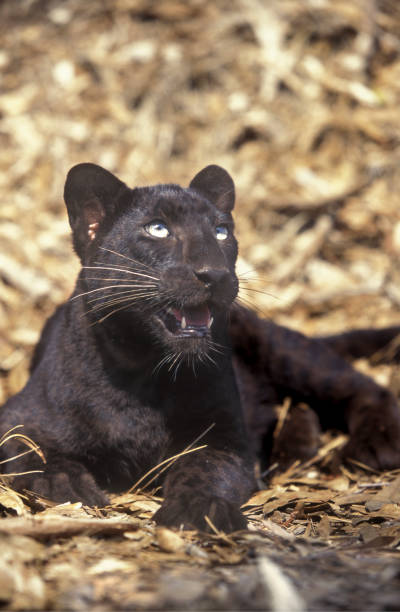panther: (55, 155, 273, 385)
